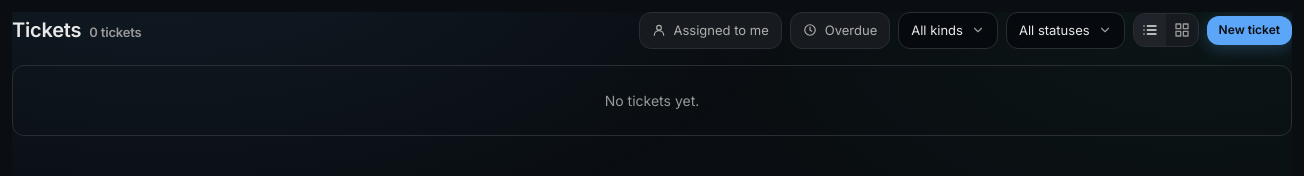
Test: TicketsTab › shows the Issues empty-state explainer when kind=Issues filter has no rows
Click the button with aria-label "Filter by kind": click(948, 30) [898, 12, 998, 49]
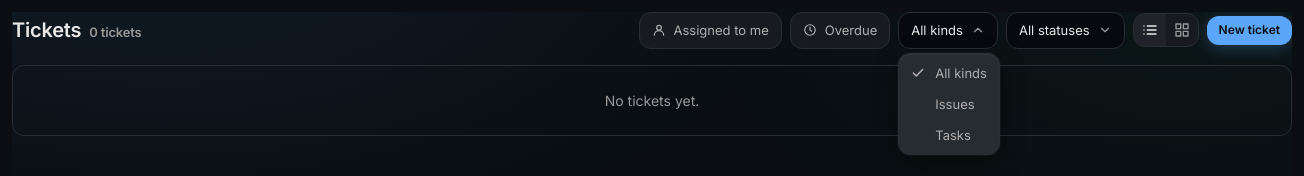
Click the option "Issues": click(955, 104) [935, 96, 974, 112]
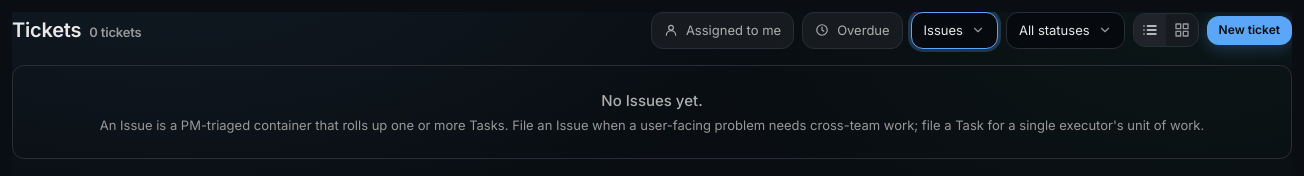
Now the text "No Issues yet." is shown, box [601, 91, 703, 110]
Now the text "PM-triaged container" is shown, box [100, 117, 1204, 133]
